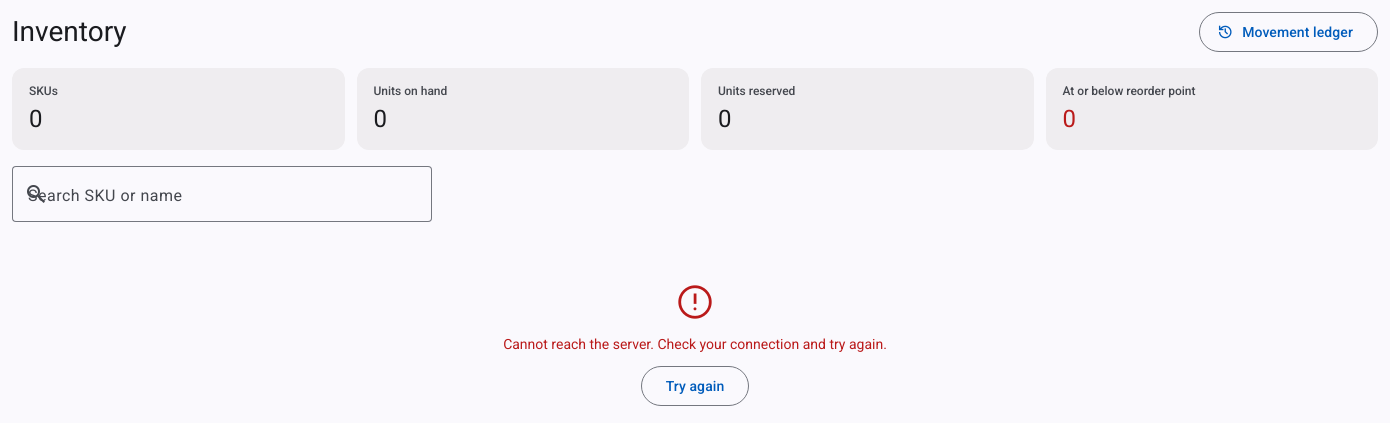
Test: InventoryComponent › shows the error state with retry
What coordinates should you click on to do the following:
click the button "Try again"
I would click on:
 (695, 386)
Its box is [641,366,749,406].
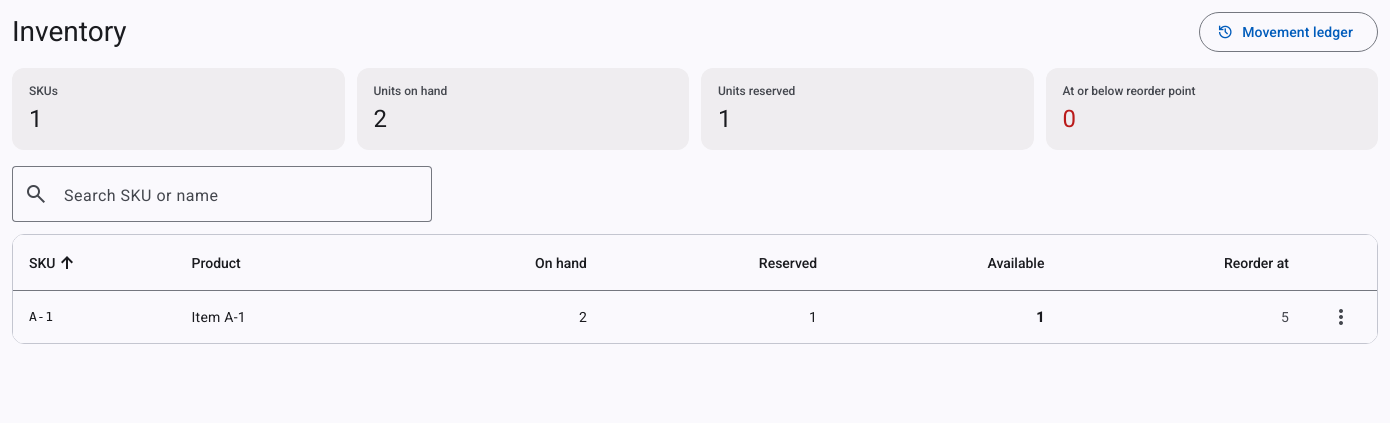
Check: the cell with test id "available-A-1" is shown, box [833,291,1060,343]
